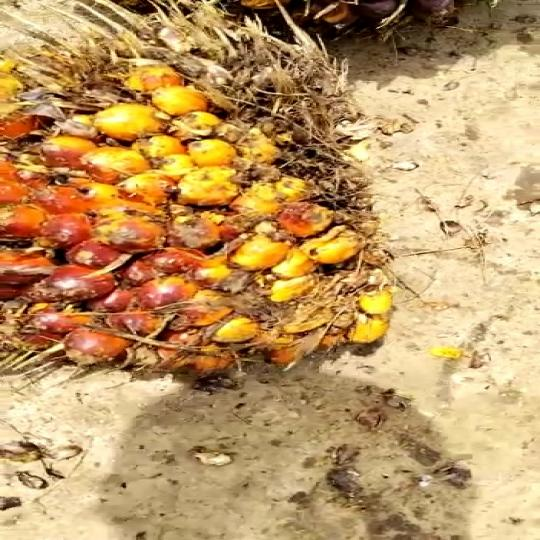masak: (0, 14, 410, 395)
